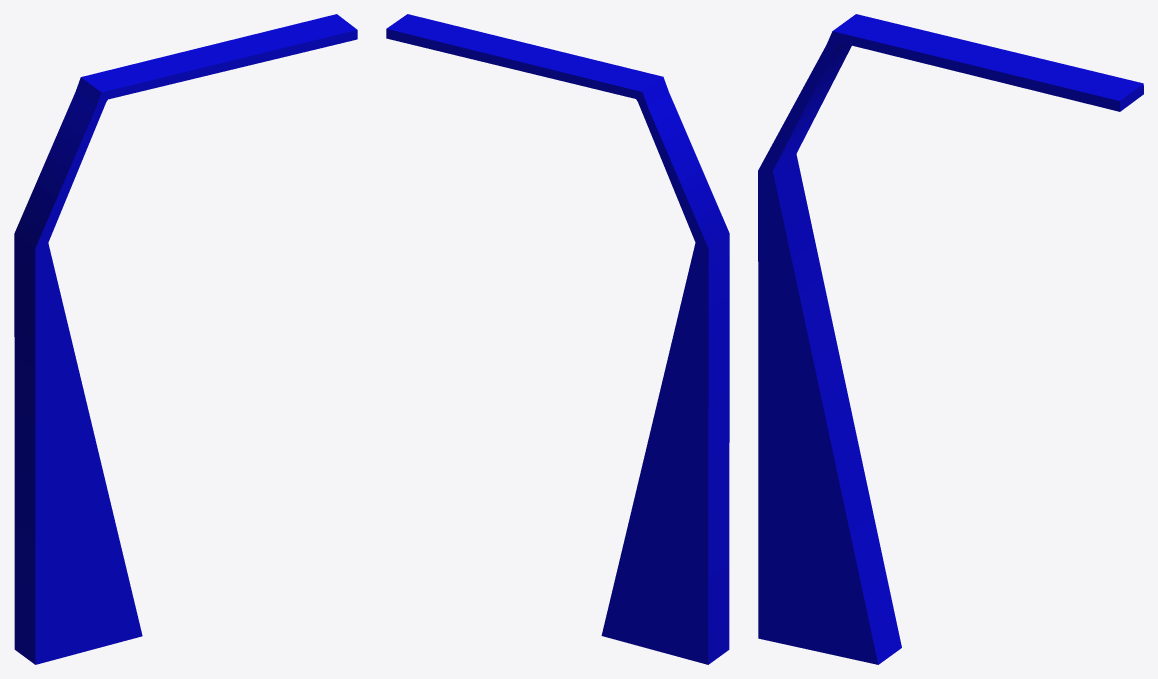
File: set_01.fbx
The picture shows the model from 3 angles, left to right: view 1: azimuth 30°, elevation 25°; view 2: azimuth 150°, elevation 25°; view 3: azimuth 330°, elevation 25°; orthographic projection. The views are drawn at different scales.
Parts seen in each view (by area): view 1: polySurface95; view 2: polySurface95; view 3: polySurface95.
Part boxes in pixels (x1,y1,x2,y2): polySurface95: (14,14,357,664); polySurface95: (386,14,729,664); polySurface95: (758,14,1143,664).
Size of the model in its own units: 1.69 by 2.8 by 0.1922.
